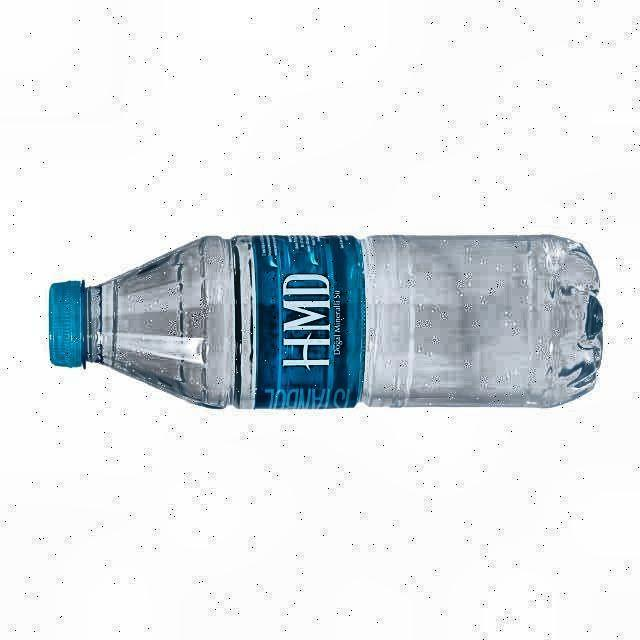plastic: (49, 235, 602, 409)
